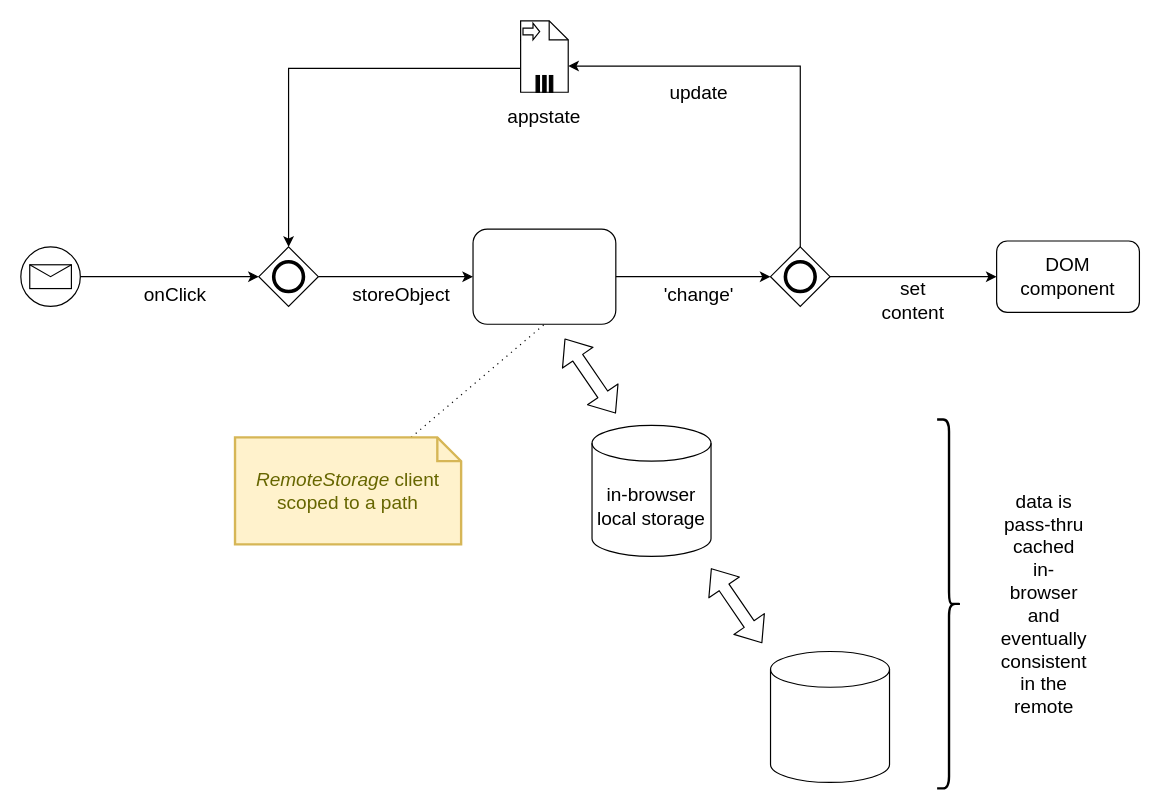
Some shapes in this 1160 by 810 pixel diagram are drawn without their labels. The box of each missing label's shape, as (x1, y1, x2, y2) in pixels:
client: (472, 228, 616, 324)
remote storage: (769, 650, 890, 782)
